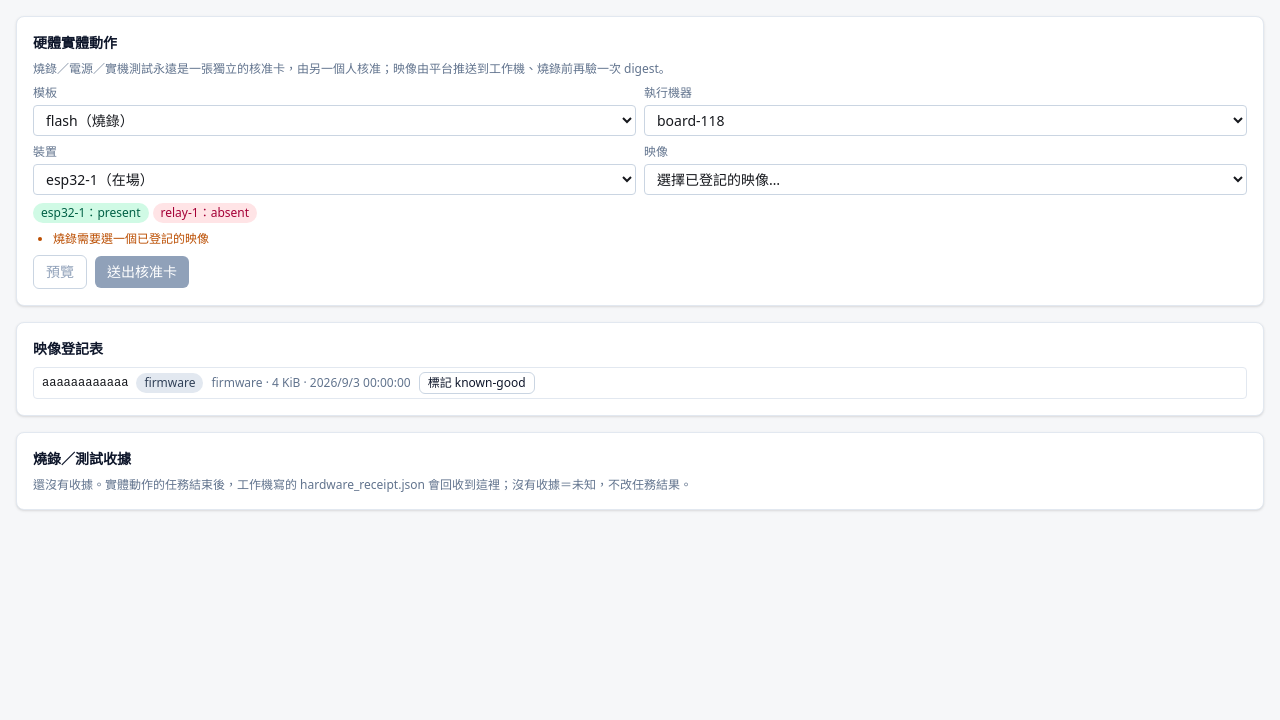
it: HardwarePanel (DG-HARDWARE-EXECUTION v1 P4) › offers the direct known-good mark and explains a non-admin refusal
The image size is (1280, 720).
Click the button "標記 known-good" at (477, 383), box x1=419 y1=372 x2=535 y2=394
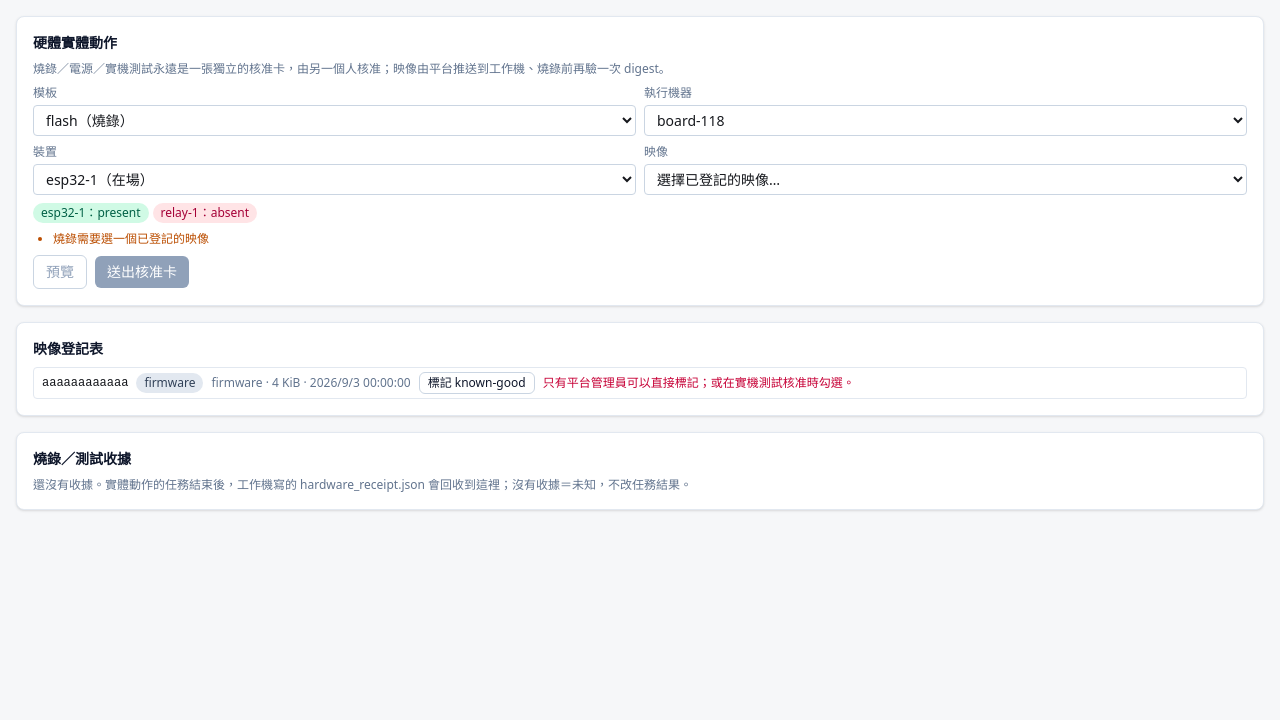
Result: the text "只有平台管理員可以直接標記；或在實機測試核准時勾選。" is shown at x1=543 y1=375 x2=855 y2=391
